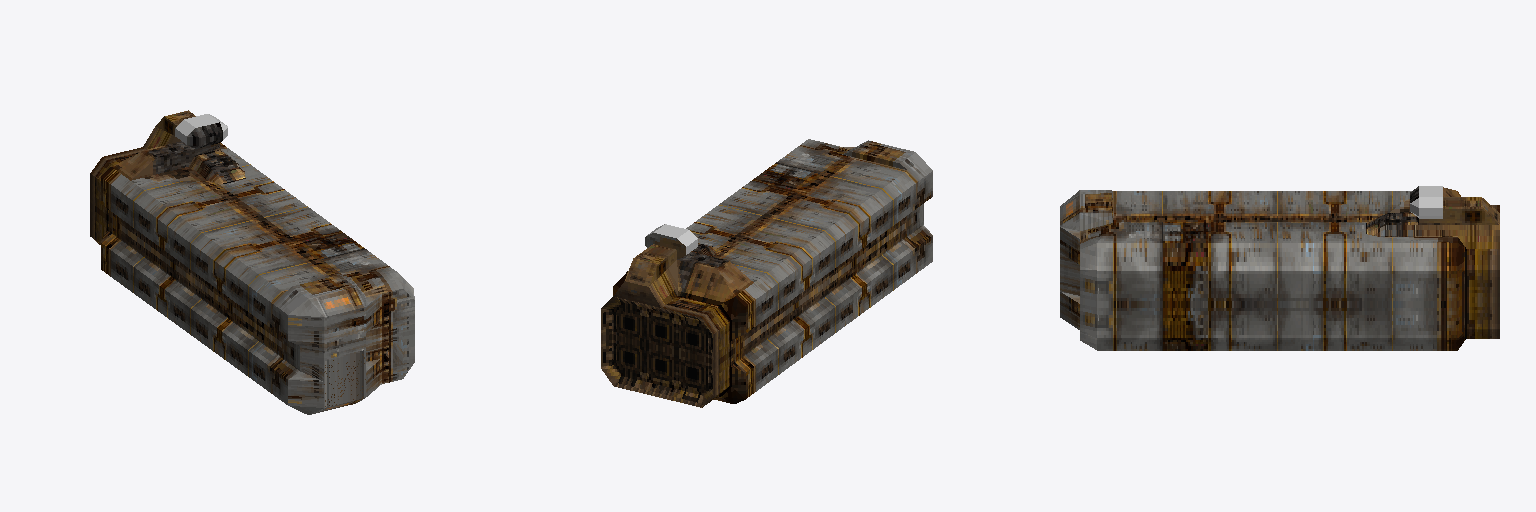
The picture shows the model from 3 angles: view 1: azimuth 30°, elevation 25°; view 2: azimuth 150°, elevation 25°; view 3: azimuth 270°, elevation 25°; orthographic projection.
Visible parts, largest first — view 1: PrisonShipold; view 2: PrisonShipold; view 3: PrisonShipold.
Part boxes in pixels (x1,y1,x2,y2): PrisonShipold: (90, 110, 414, 414); PrisonShipold: (601, 139, 932, 407); PrisonShipold: (1060, 186, 1499, 350).
Bounding box in the file's own units: 686 × 737 × 1965.
Materials: 4 (3 with a texture image).